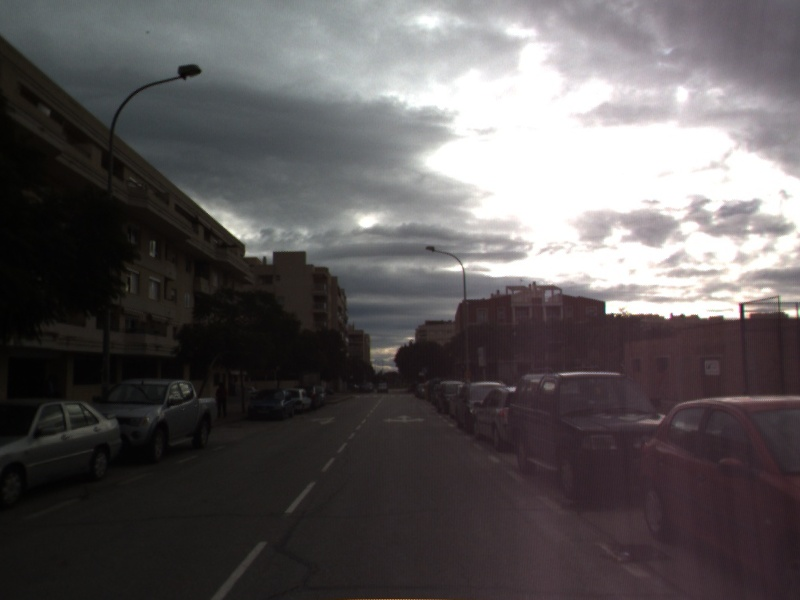STRAIGHT_LEFT_RIGHT: (382, 413, 427, 425)
